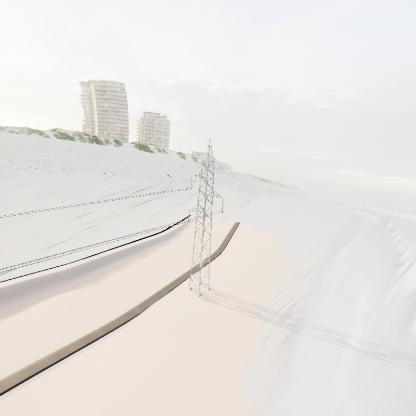tower: (185, 138, 226, 300)
